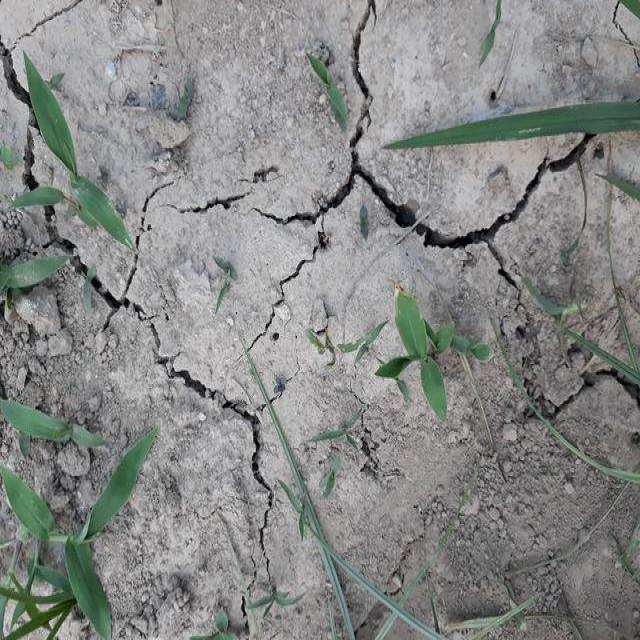weed: (7, 31, 127, 640), (372, 276, 493, 422)
